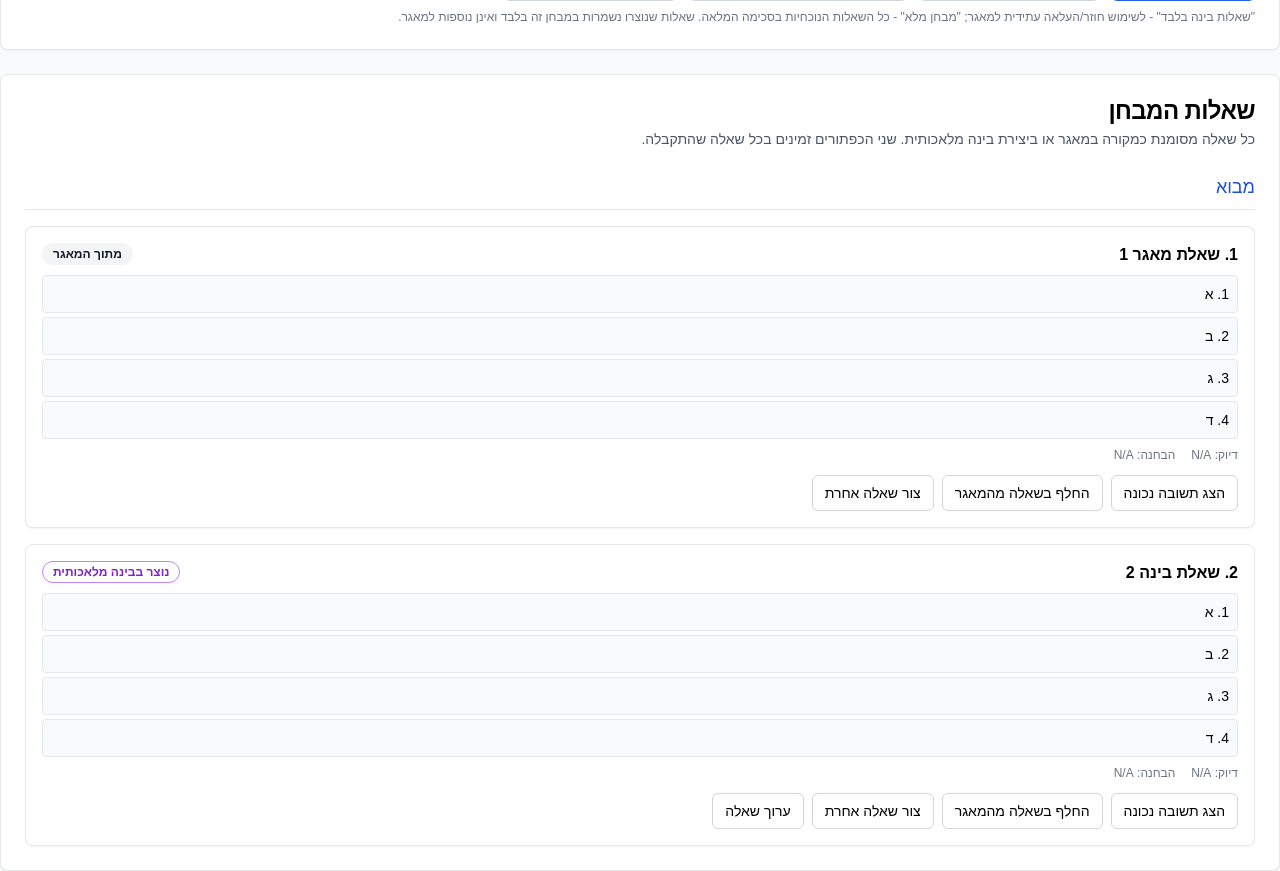
Test case: WP28 - edit form validation, cancel, save, and rerender › the form opens pre-filled with the current values
The image size is (1280, 871).
(page scrolled)
expect the text "1. שאלת מאגר 1" is shown: met, box [1119, 246, 1238, 263]
Click the button with test id "edit-question-button" at (758, 811), box [712, 793, 804, 829]
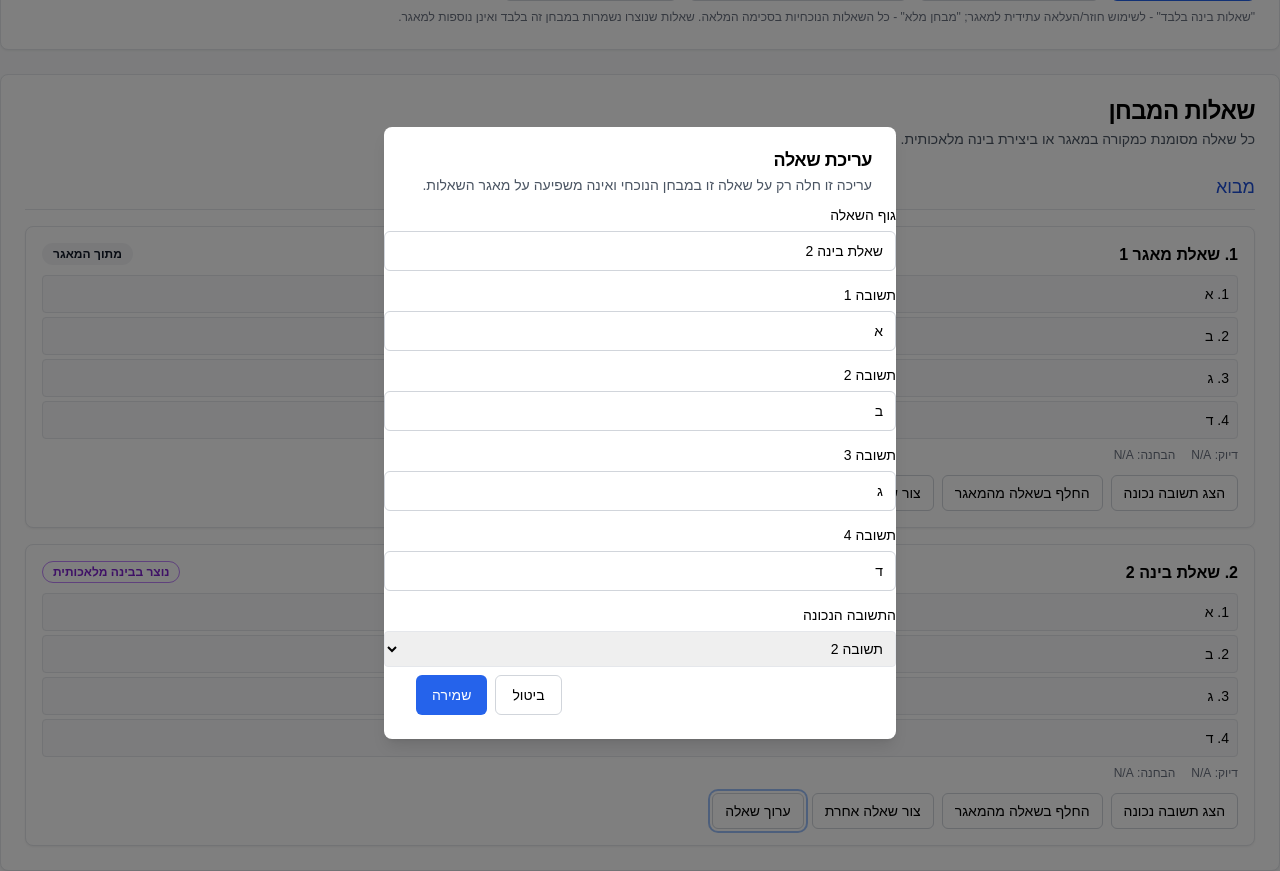
expect the field labelled "גוף השאלה" holds "שאלת בינה 2": met, box [384, 231, 896, 271]
expect the field labelled "תשובה 1" holds "א": met, box [384, 311, 896, 351]
